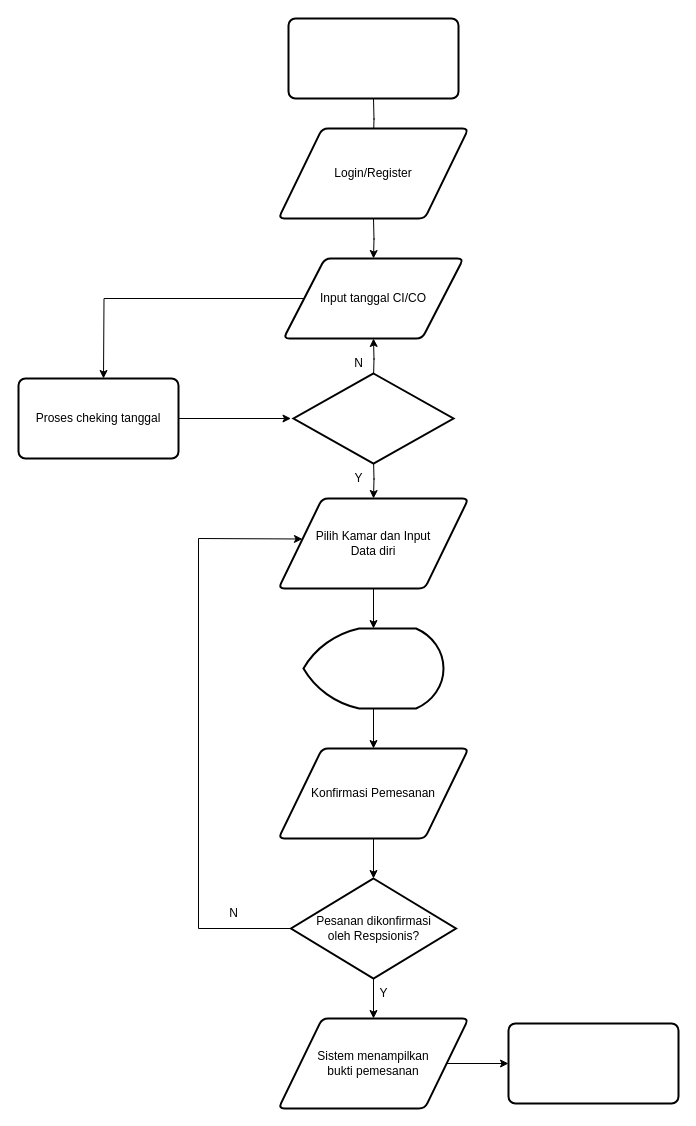
The diagram is 696 pixels wide and 1126 high, and some of its shapes have lost their labels. Here are the shapes that lost their labels. From the top down, the box of each, then its label:
(287, 17, 459, 99): Mulai
(292, 372, 454, 464): Apakah Tersedia?
(302, 627, 444, 709): Detai Pesanan
(507, 1022, 679, 1104): Selesai
